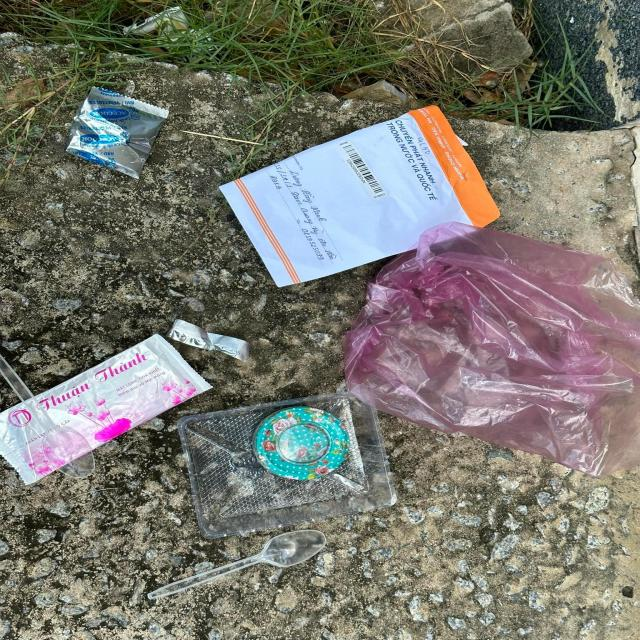bag: (345, 225, 640, 476)
packet: (0, 333, 211, 488), (66, 87, 168, 179)
paper: (216, 102, 502, 288)
plastic holder: (177, 391, 394, 543)
plastic utensil: (146, 530, 325, 600)
